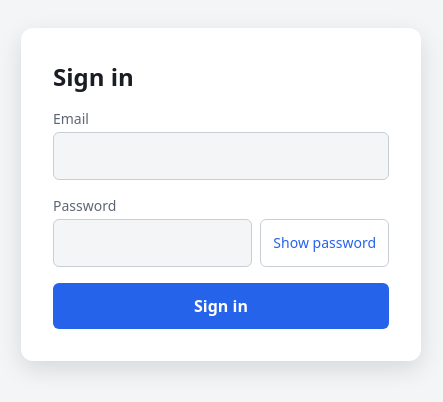
LoginPage › maps_400_fields_to_inline_errors
The width and height of the screenshot is (443, 402).
Type "alice@example.com" into the field labelled "Email" at (221, 156), box [53,132,389,180]
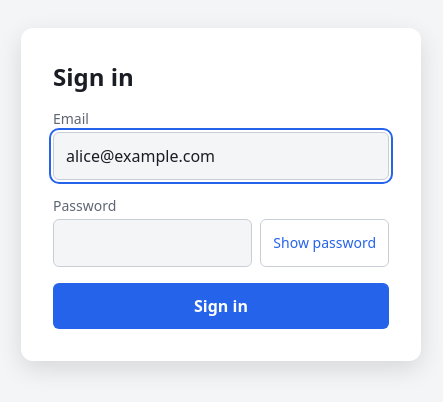
Type "Password123!" into the password field labelled "Password" at (153, 242), box [53,218,252,266]
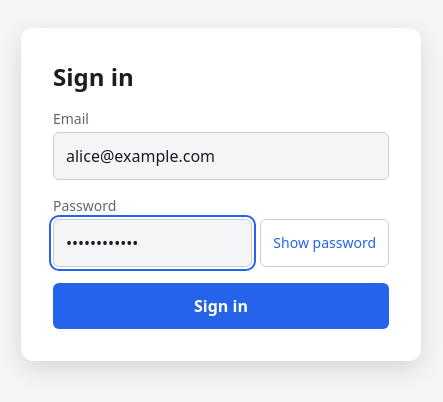
Click the button "Sign in" at (221, 306), box [53,282,389,328]
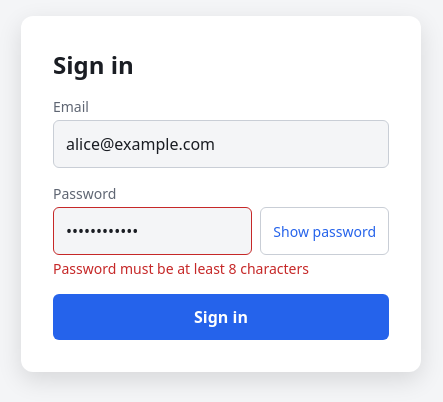
Now the text "Password must be at least 8 characters" is shown, box [53,259,309,278]
